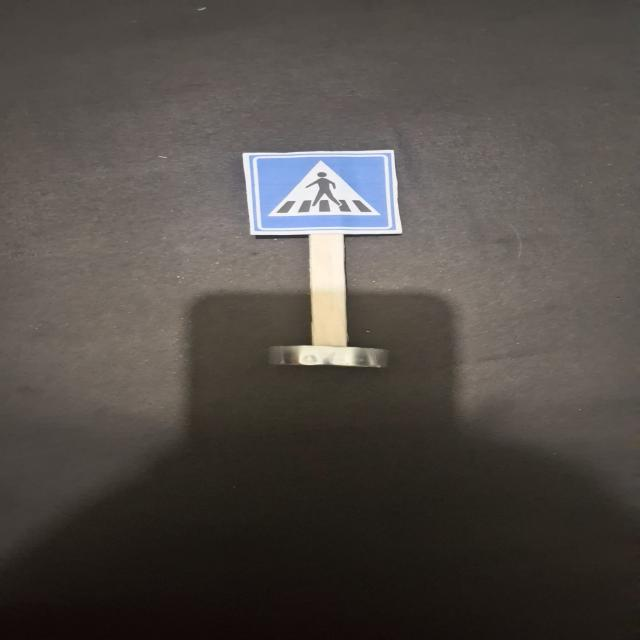Rambu Penyebrangan: (248, 153, 397, 232)
